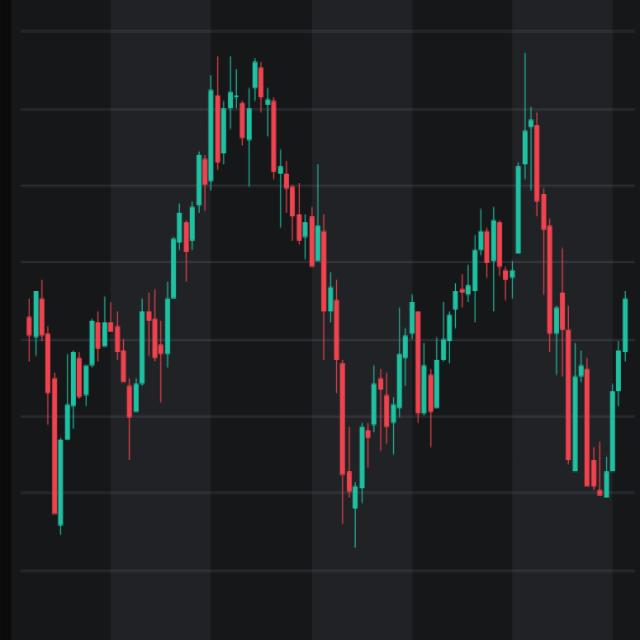Rising-Wedge: (27, 35, 277, 567), (335, 122, 542, 598)
